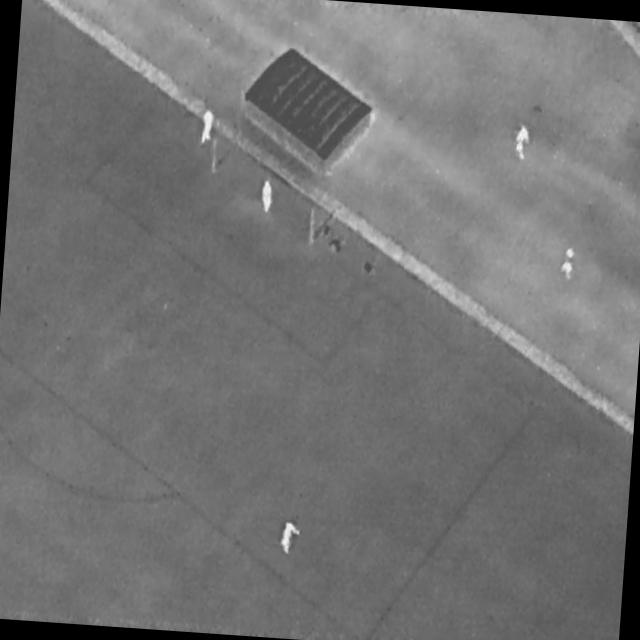person: (276, 516, 304, 558), (512, 122, 532, 164), (557, 243, 577, 284), (198, 109, 217, 145), (259, 178, 276, 216)
